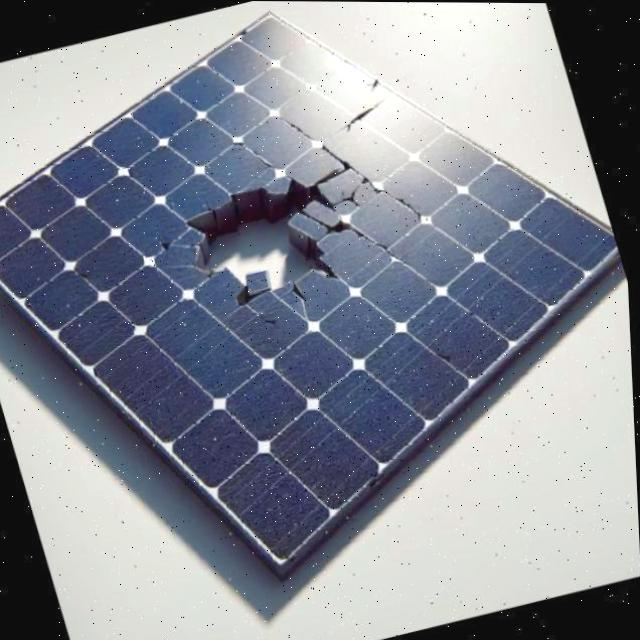Anomaly Solar Panel: (0, 0, 621, 575)
Structural Damage: (175, 139, 416, 332), (352, 223, 415, 262)
